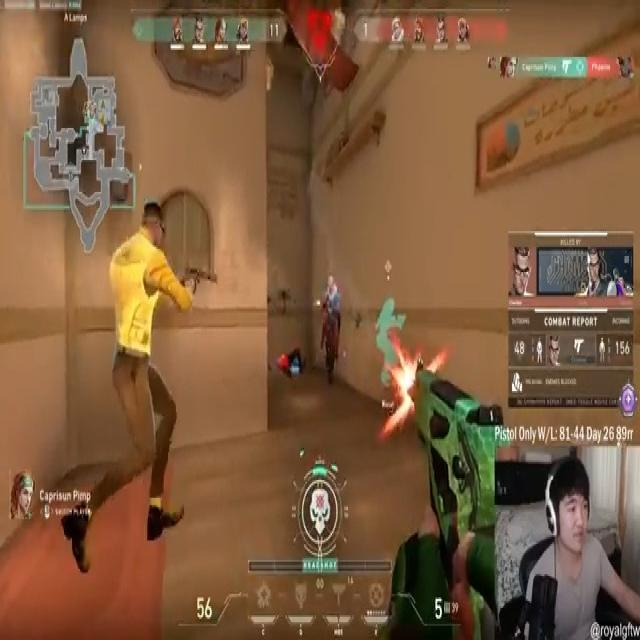ally: (56, 188, 207, 574)
ally behind wall: (372, 297, 412, 400)
enemy: (318, 276, 347, 394)
